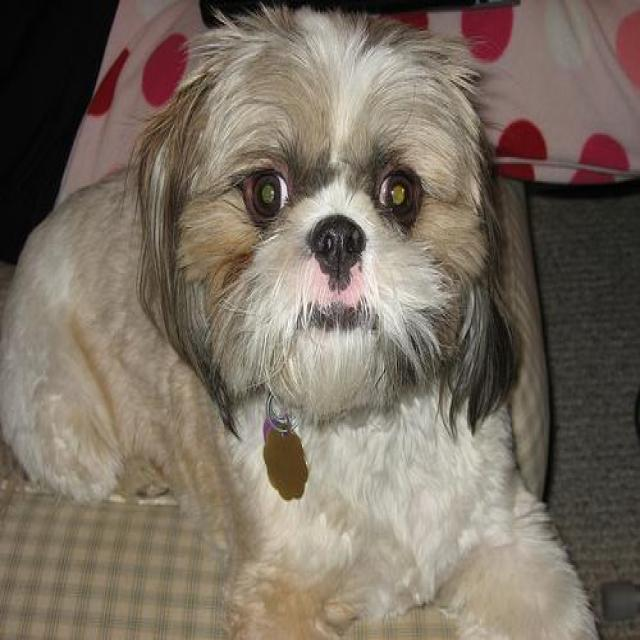shih_tzu: (1, 11, 599, 638)
